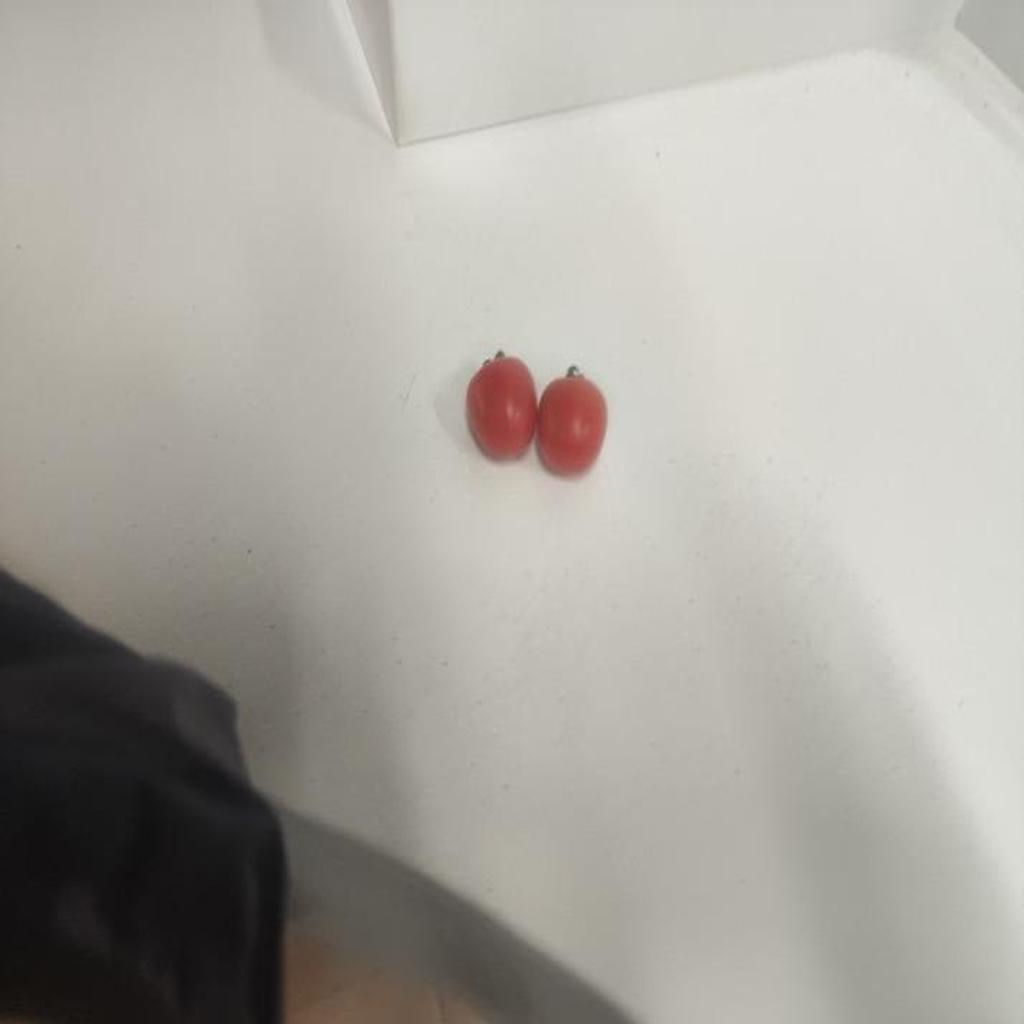tomato: (466, 349, 539, 468), (531, 373, 612, 474)
